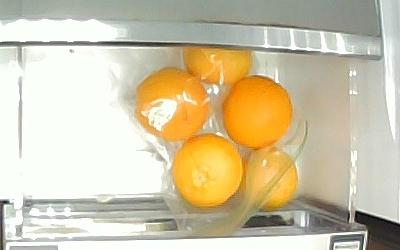orange: (173, 133, 243, 209), (223, 74, 292, 149)
orange_vinyl: (134, 66, 211, 141), (240, 146, 299, 210), (178, 48, 255, 84)
